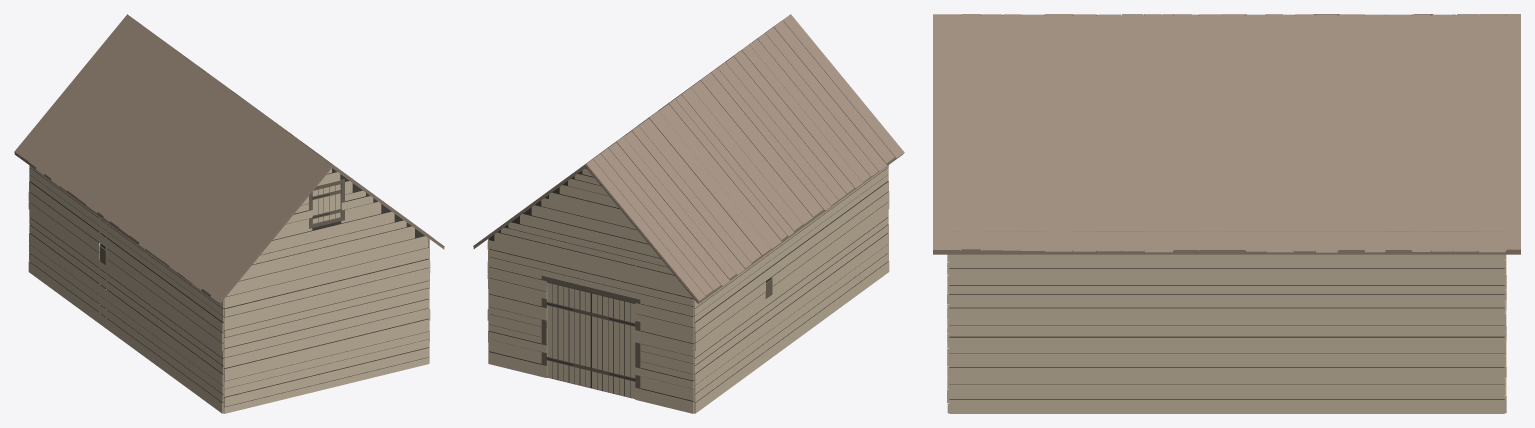
The model's file is recon_1835_west_024__inferred_1835.glb.
3 renders of one model, left to right at view 1: azimuth 30°, elevation 25°; view 2: azimuth 150°, elevation 25°; view 3: azimuth 270°, elevation 25°, orthographic. The views are drawn at different scales.
Parts seen in each view (by area): view 1: recon_1835_west_024__inferred_1835; view 2: recon_1835_west_024__inferred_1835; view 3: recon_1835_west_024__inferred_1835.
Part boxes in pixels (x1,y1,x2,y2): recon_1835_west_024__inferred_1835: [14, 14, 444, 413]; recon_1835_west_024__inferred_1835: [473, 14, 904, 413]; recon_1835_west_024__inferred_1835: [933, 14, 1520, 413].
Size of the model in its own units: 7.45 by 7.15 by 11.62.
